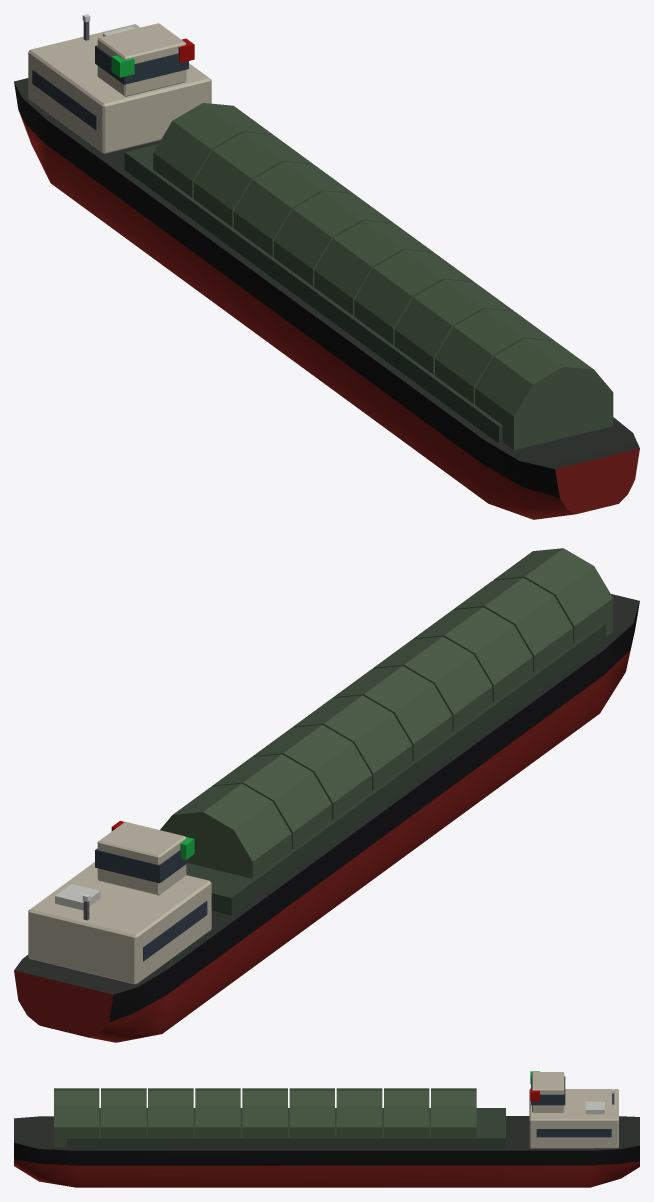
File: peniche.glb
3 views of the same model, one above another, from view 1: azimuth 30°, elevation 25°; view 2: azimuth 150°, elevation 25°; view 3: azimuth 270°, elevation 25° (orthographic). The views are drawn at different scales.
Visible parts, largest first — view 1: peniche; view 2: peniche; view 3: peniche.
Part boxes in pixels (x1,y1,x2,y2): peniche: (14,14,639,519); peniche: (14,548,639,1042); peniche: (14,1071,639,1187).
Size of the model in its own units: 5.05 by 6.2 by 38.5.
